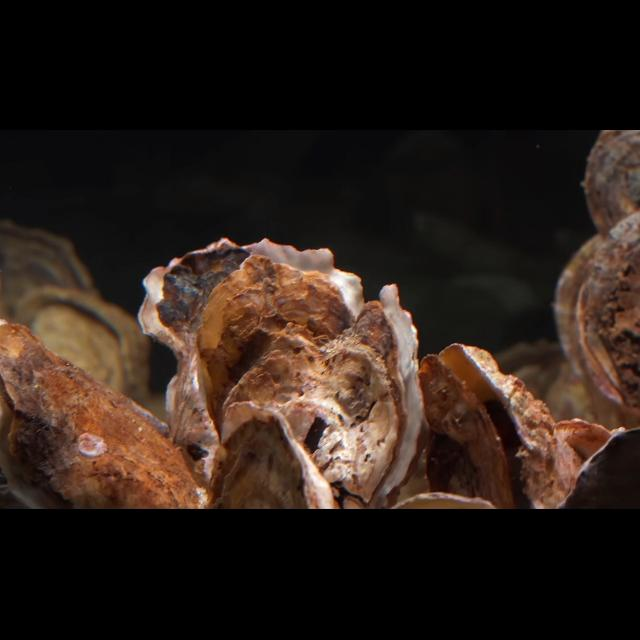Oyster-Closed: (222, 321, 402, 511), (201, 252, 359, 446), (553, 227, 640, 408), (0, 216, 100, 324), (583, 130, 640, 236)
Oyster-Open: (141, 236, 369, 489), (1, 315, 210, 511), (424, 341, 586, 511), (342, 281, 428, 511), (13, 284, 151, 408), (202, 400, 338, 510)
